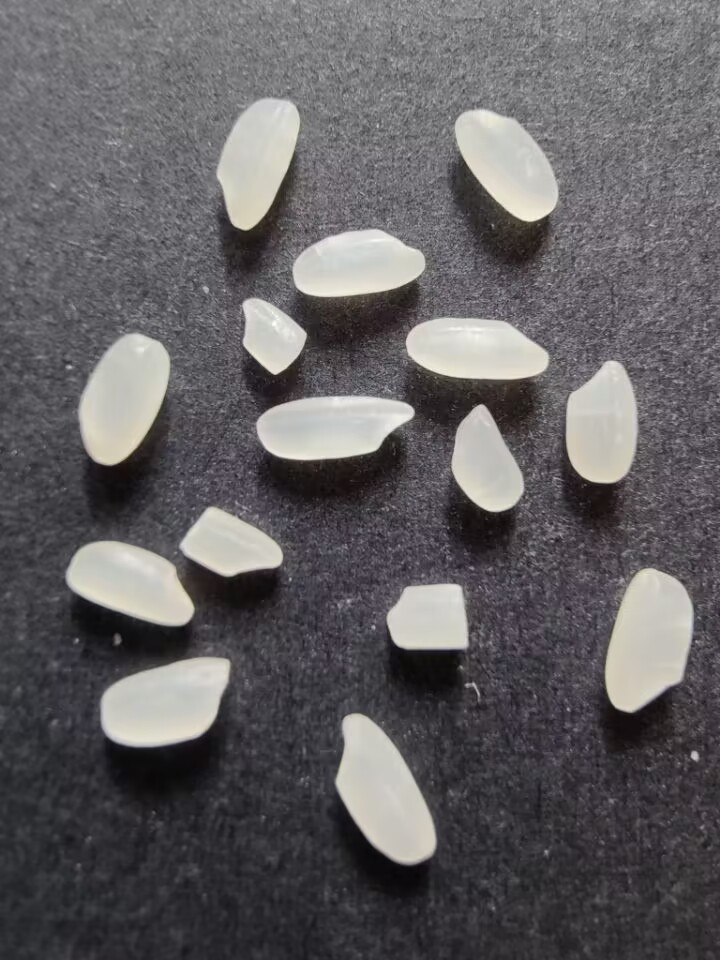broken: (440, 397, 529, 516), (176, 498, 285, 581), (383, 576, 473, 662), (235, 292, 311, 378)
rice: (322, 709, 439, 870), (600, 564, 695, 715), (97, 653, 238, 753), (77, 330, 174, 472), (448, 104, 560, 224), (213, 93, 303, 233), (60, 538, 196, 629), (397, 311, 555, 385), (251, 393, 416, 462), (559, 357, 643, 486), (287, 225, 429, 300)
